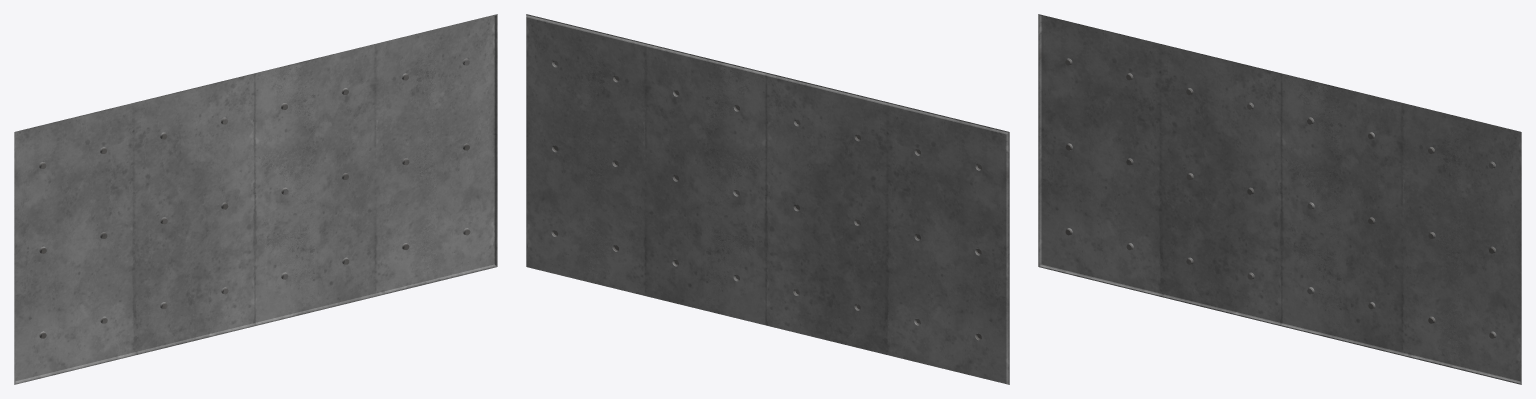
The model's file is SM_Wall_06.fbx.
3 renders of one model, left to right at view 1: azimuth 30°, elevation 25°; view 2: azimuth 150°, elevation 25°; view 3: azimuth 330°, elevation 25°, orthographic.
Parts seen in each view (by area): view 1: SM_Wall_06; view 2: SM_Wall_06; view 3: SM_Wall_06.
Boxes of the visible parts, x1,y1,x2,y2 form: SM_Wall_06: (14, 14, 497, 384); SM_Wall_06: (526, 14, 1009, 384); SM_Wall_06: (1038, 14, 1521, 384).
Size of the model in its own units: 400 by 200 by 1.98.
